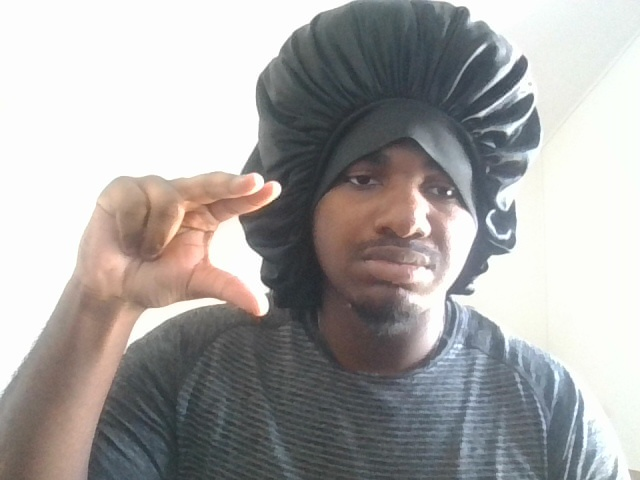No: (55, 131, 298, 348)
